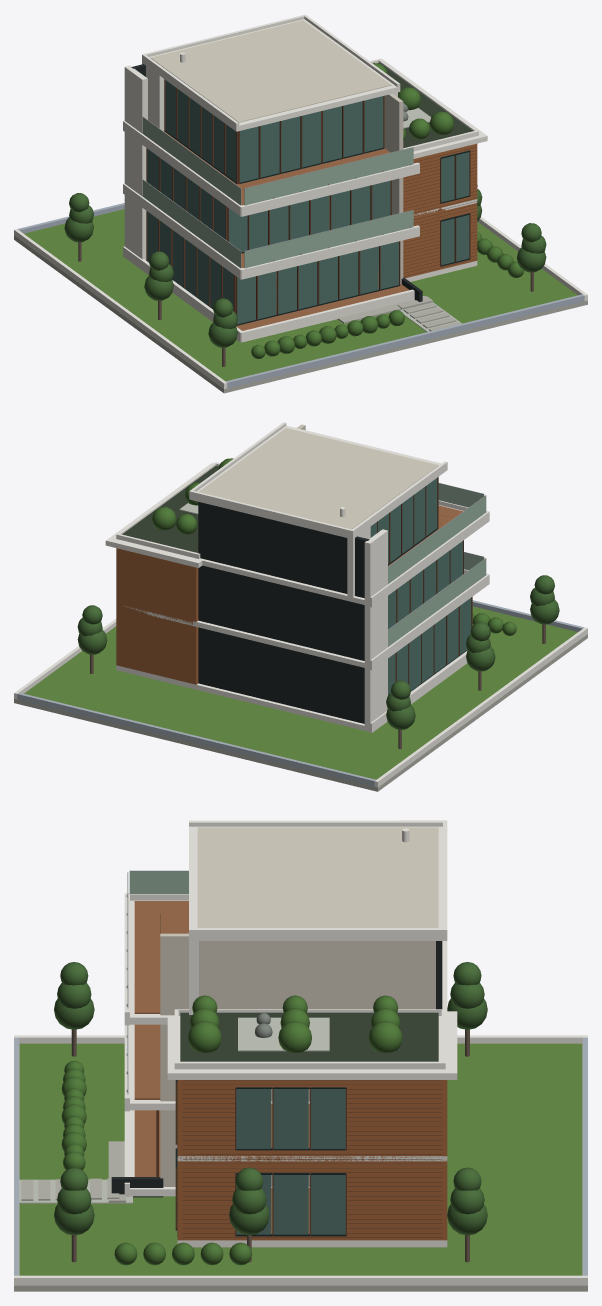
The model's file is casa-cubo-verde.glb.
3 renders of one model, top to bottom at view 1: azimuth 30°, elevation 25°; view 2: azimuth 150°, elevation 25°; view 3: azimuth 270°, elevation 25°, orthographic. The views are drawn at different scales.
Parts seen in each view (by area): view 1: cubo-lawn-garden-lawn, cubo-ivory-upper-roof-inset, cubo-timber-timber-front-wall, cubo-white-left-rear-pier, cubo-balustrade-front-balustrade-3960, Body1, cubo-balustrade-front-balustrade-7260, cubo-stone-lot-foundation, cubo-white-upper-roof, cubo-white-lot-border--10000, cubo-white-front-fascia-0, cubo-white-front-fascia-2 (+59 smaller); view 2: cubo-charcoal-main-rear-wall, cubo-lawn-garden-lawn, cubo-ivory-upper-roof-inset, cubo-timber-timber-rear-wall, cubo-white-left-rear-pier, Body2, cubo-stone-lot-foundation, cubo-white-upper-roof, cubo-white-lot-border--10000, cubo-soil-wing-roof-soil, cubo-balustrade-left-balustrade-7260, cubo-balustrade-left-balustrade-3960 (+28 smaller); view 3: cubo-lawn-garden-lawn, cubo-timber-timber-right-wall, cubo-ivory-upper-roof-inset, cubo-ivory-main-east-wall, cubo-soil-wing-roof-soil, cubo-white-lot-border-9820, cubo-white-wing-roof-cap, cubo-stone-lot-foundation, cubo-deck-main-deck-2, cubo-white-upper-roof, cubo-white-roof-planter-rim-7100, cubo-glazing-timber-side-850-pane-1 (+39 smaller).
Boxes of the visible parts, x1,y1,x2,y2 form: cubo-lawn-garden-lawn: [24, 209, 577, 381]; cubo-ivory-upper-roof-inset: [151, 20, 391, 122]; cubo-timber-timber-front-wall: [403, 144, 477, 278]; cubo-white-left-rear-pier: [124, 65, 147, 260]; cubo-balustrade-front-balustrade-3960: [244, 210, 413, 268]; Body1: [226, 294, 584, 388]; cubo-balustrade-front-balustrade-7260: [244, 148, 413, 205]; cubo-stone-lot-foundation: [14, 236, 587, 393]; cubo-white-upper-roof: [142, 19, 400, 131]; cubo-white-lot-border--10000: [14, 229, 227, 389]; cubo-white-front-fascia-0: [241, 289, 414, 342]; cubo-white-front-fascia-2: [240, 162, 419, 216]; cubo-charcoal-main-rear-wall: [198, 502, 369, 723]; cubo-lawn-garden-lawn: [24, 606, 577, 779]; cubo-ivory-upper-roof-inset: [199, 428, 438, 529]; cubo-timber-timber-rear-wall: [116, 548, 198, 684]; cubo-white-left-rear-pier: [364, 529, 387, 726]; Body2: [17, 692, 375, 786]; cubo-stone-lot-foundation: [14, 634, 587, 791]; cubo-white-upper-roof: [189, 425, 447, 539]; cubo-white-lot-border--10000: [374, 627, 587, 787]; cubo-soil-wing-roof-soil: [122, 465, 218, 552]; cubo-balustrade-left-balustrade-7260: [388, 496, 486, 583]; cubo-balustrade-left-balustrade-3960: [388, 559, 486, 646]; cubo-lawn-garden-lawn: [19, 1043, 582, 1275]; cubo-timber-timber-right-wall: [182, 1080, 442, 1240]; cubo-ivory-upper-roof-inset: [197, 827, 438, 927]; cubo-ivory-main-east-wall: [160, 933, 435, 1186]; cubo-soil-wing-roof-soil: [180, 1012, 438, 1061]; cubo-white-lot-border-9820: [14, 1275, 587, 1285]; cubo-white-wing-roof-cap: [167, 1011, 457, 1079]; cubo-stone-lot-foundation: [14, 1045, 587, 1291]; cubo-deck-main-deck-2: [134, 901, 188, 1013]; cubo-white-upper-roof: [189, 826, 447, 940]; cubo-white-roof-planter-rim-7100: [174, 1061, 445, 1069]; cubo-glazing-timber-side-850-pane-1: [273, 1175, 308, 1234].
Bounding box in the file's own units: 20 × 11.03 × 20.
